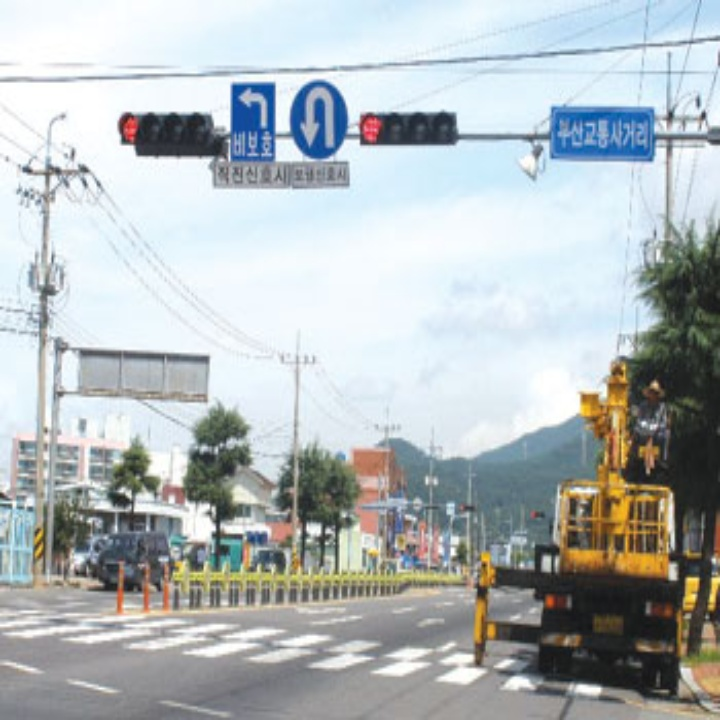left: (233, 77, 278, 137)
